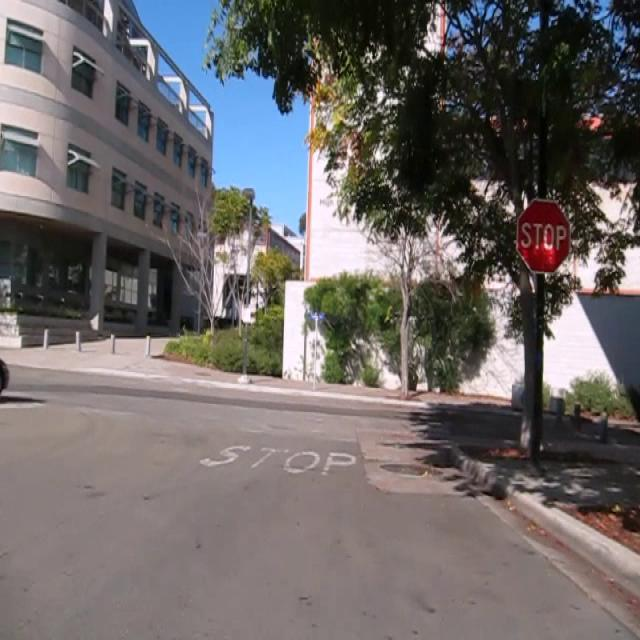stop: (515, 198, 571, 274)
